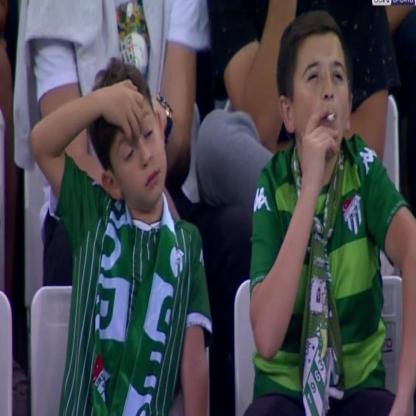cigarette: (325, 110, 337, 124)
person: (26, 51, 220, 412), (244, 12, 416, 412)
